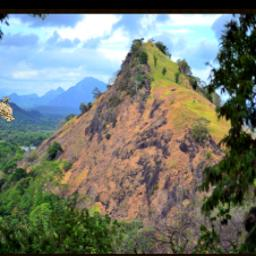Sparrow: (0, 98, 16, 122)
